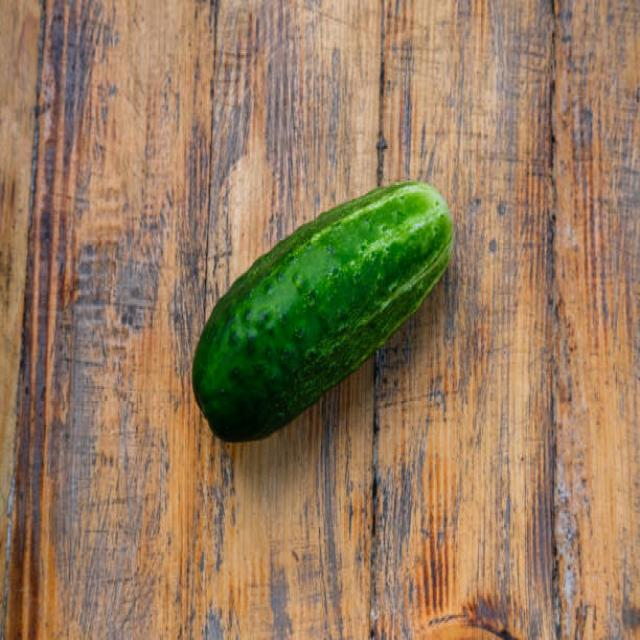cucumber: (192, 182, 456, 442)
